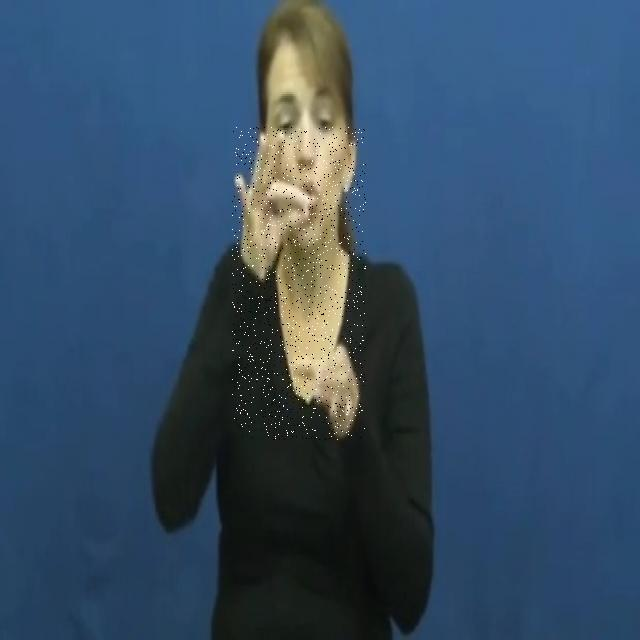straw: (232, 127, 366, 440)
